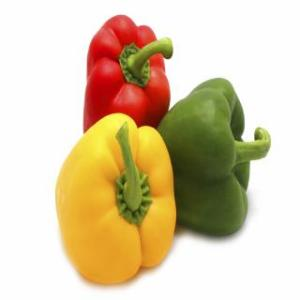bell_pepper: (52, 112, 178, 286), (157, 72, 272, 241), (74, 13, 178, 141)
